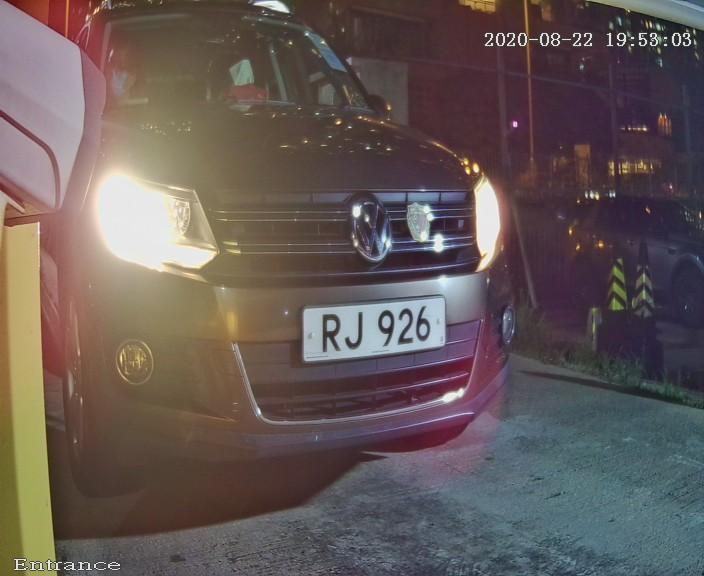Car: (1, 19, 554, 502)
License Plate: (277, 280, 475, 390)
